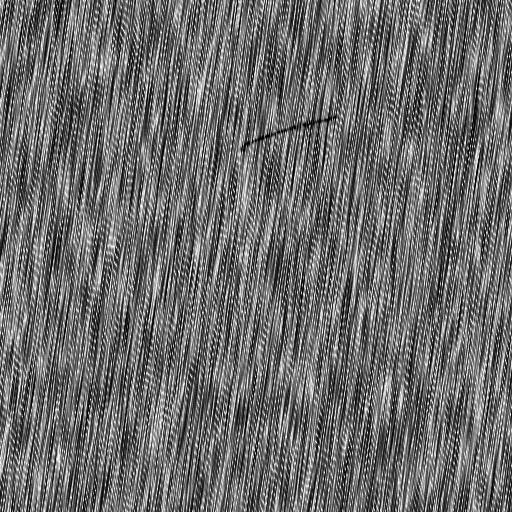scratch: (236, 109, 343, 164)
